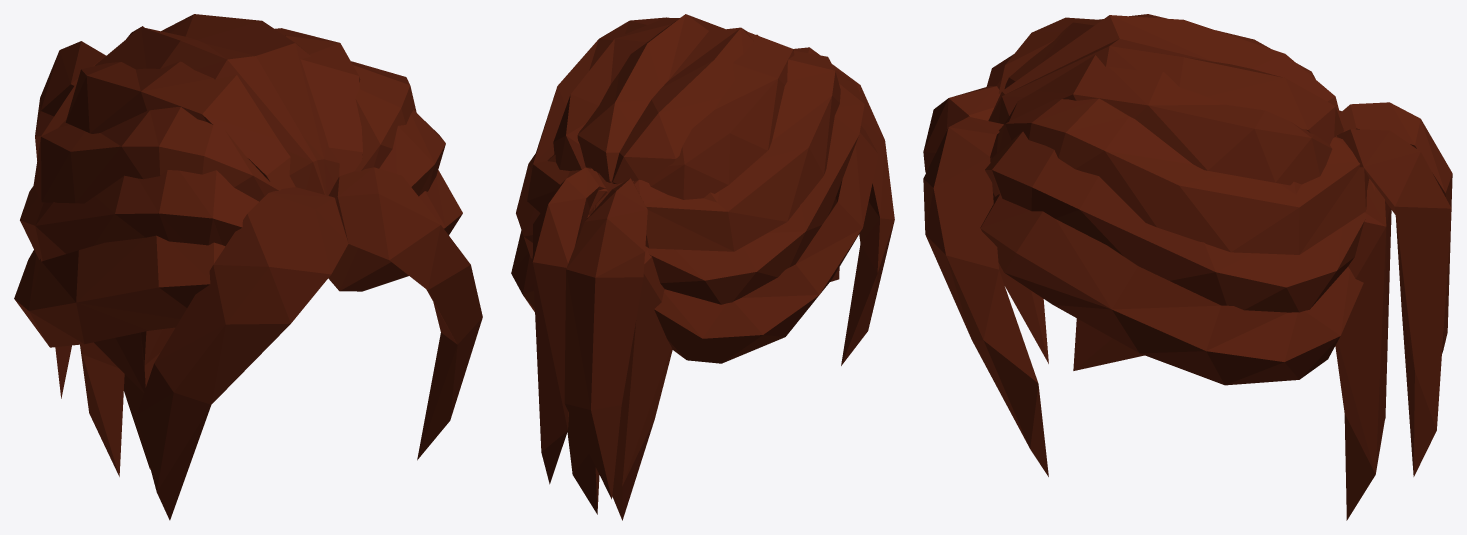
Rendered from hair-updo.high.2d79faf1.glb.
3 renders of one model, left to right at view 1: azimuth 30°, elevation 25°; view 2: azimuth 150°, elevation 25°; view 3: azimuth 270°, elevation 25°, orthographic. The views are drawn at different scales.
Parts seen in each view (by area): view 1: hair-updo; view 2: hair-updo; view 3: hair-updo.
Boxes of the visible parts, bbox=[...] form: hair-updo: bbox=[14, 14, 482, 520]; hair-updo: bbox=[511, 14, 894, 520]; hair-updo: bbox=[923, 14, 1452, 520].
Size of the model in its own units: 0.2383 by 0.3188 by 0.3163.
